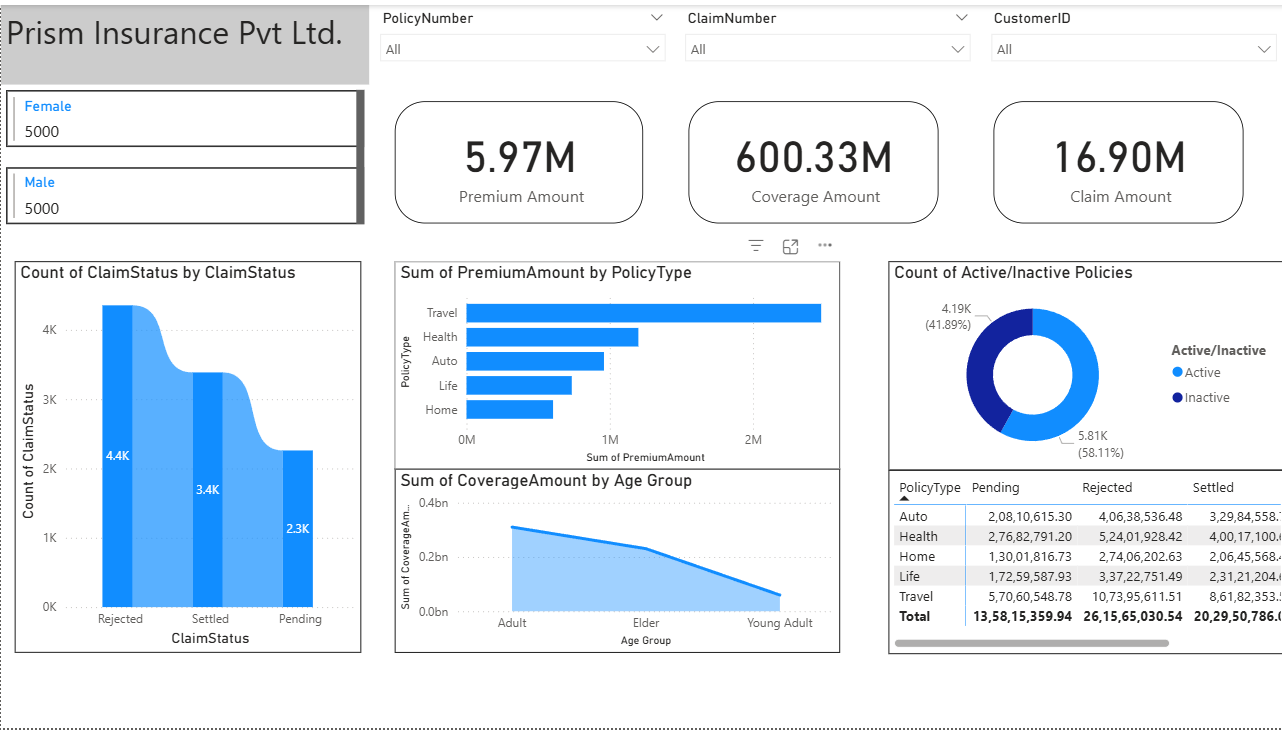

What the dashboard file says about the page in this screenshot:
{"tool":"powerbi","page":{"name":"Insurance Dashboard","canvas":[1280,720],"ordinal":0},"visuals":[{"type":"slicer","fields":{"Values":["InsuranceData.PolicyNumber"]},"box":[366.4,0,304.6,79.6],"z":0},{"type":"slicer","fields":{"Values":["InsuranceData.ClaimNumber"]},"box":[671,0,304.6,79.6],"z":1000},{"type":"slicer","fields":{"Values":["InsuranceData.CustomerID"]},"box":[975.6,0,304.6,79.6],"z":2000},{"type":"textbox","box":[0,0,366.4,79.6],"z":3000},{"type":"card","fields":{"Values":["Sum(InsuranceData.PremiumAmount)"]},"box":[391.8,95.8,247.5,121.9],"z":3001},{"type":"card","fields":{"Values":["Sum(InsuranceData.CoverageAmount)"]},"box":[684.2,95.8,248.8,121.9],"z":3002},{"type":"card","fields":{"Values":["Sum(InsuranceData.ClaimAmount)"]},"box":[987.7,95.8,248.8,121.9],"z":3003},{"type":"multiRowCard","fields":{"Values":["InsuranceData.Gender","CountNonNull(InsuranceData.Gender)"]},"box":[0,79.6,367,155.5],"z":3004},{"type":"ribbonChart","fields":{"Category":["InsuranceData.ClaimStatus"],"Y":["CountNonNull(InsuranceData.ClaimStatus)"]},"box":[13.7,255,344.6,389.4],"z":3005},{"type":"barChart","fields":{"Category":["InsuranceData.PolicyType"],"Y":["Sum(InsuranceData.PremiumAmount)"]},"box":[392.5,255.2,443.2,207.2],"z":3006},{"type":"lineChart","fields":{"Category":["InsuranceData.Age Group"],"Y":["Sum(InsuranceData.CoverageAmount)"]},"box":[392,462,443,183],"z":3007},{"type":"donutChart","title":"Count of Active/Inactive Policies","fields":{"Category":["InsuranceData.Active/Inactive"],"Y":["CountNonNull(InsuranceData.Active/Inactive)"]},"box":[883.2,255,396.8,207.7],"z":3008},{"type":"pivotTable","fields":{"Values":["Sum(InsuranceData.CoverageAmount)"],"Columns":["InsuranceData.ClaimStatus"],"Rows":["InsuranceData.PolicyType"]},"box":[883.2,462.8,396.8,182.9],"z":3009}]}

Visuals, with their boxes in screenshot pixels (x1, y1, x2, y2), scaled from the page's 1280x720 canvas onto the 1282x737 screenshot:
slicer - InsuranceData.PolicyNumber: [x1=367, y1=0, x2=672, y2=81]
slicer - InsuranceData.ClaimNumber: [x1=672, y1=0, x2=977, y2=81]
slicer - InsuranceData.CustomerID: [x1=977, y1=0, x2=1281, y2=81]
textbox: [x1=0, y1=0, x2=367, y2=81]
card - Sum(InsuranceData.PremiumAmount): [x1=392, y1=98, x2=640, y2=223]
card - Sum(InsuranceData.CoverageAmount): [x1=685, y1=98, x2=934, y2=223]
card - Sum(InsuranceData.ClaimAmount): [x1=989, y1=98, x2=1238, y2=223]
multiRowCard - InsuranceData.Gender x CountNonNull(InsuranceData.Gender): [x1=0, y1=81, x2=368, y2=241]
ribbonChart - InsuranceData.ClaimStatus x CountNonNull(InsuranceData.ClaimStatus): [x1=14, y1=261, x2=359, y2=660]
barChart - InsuranceData.PolicyType x Sum(InsuranceData.PremiumAmount): [x1=393, y1=261, x2=837, y2=473]
lineChart - InsuranceData.Age Group x Sum(InsuranceData.CoverageAmount): [x1=393, y1=473, x2=836, y2=660]
"Count of Active/Inactive Policies" donutChart: [x1=885, y1=261, x2=1281, y2=474]
pivotTable - Sum(InsuranceData.CoverageAmount) x InsuranceData.ClaimStatus: [x1=885, y1=474, x2=1281, y2=661]
